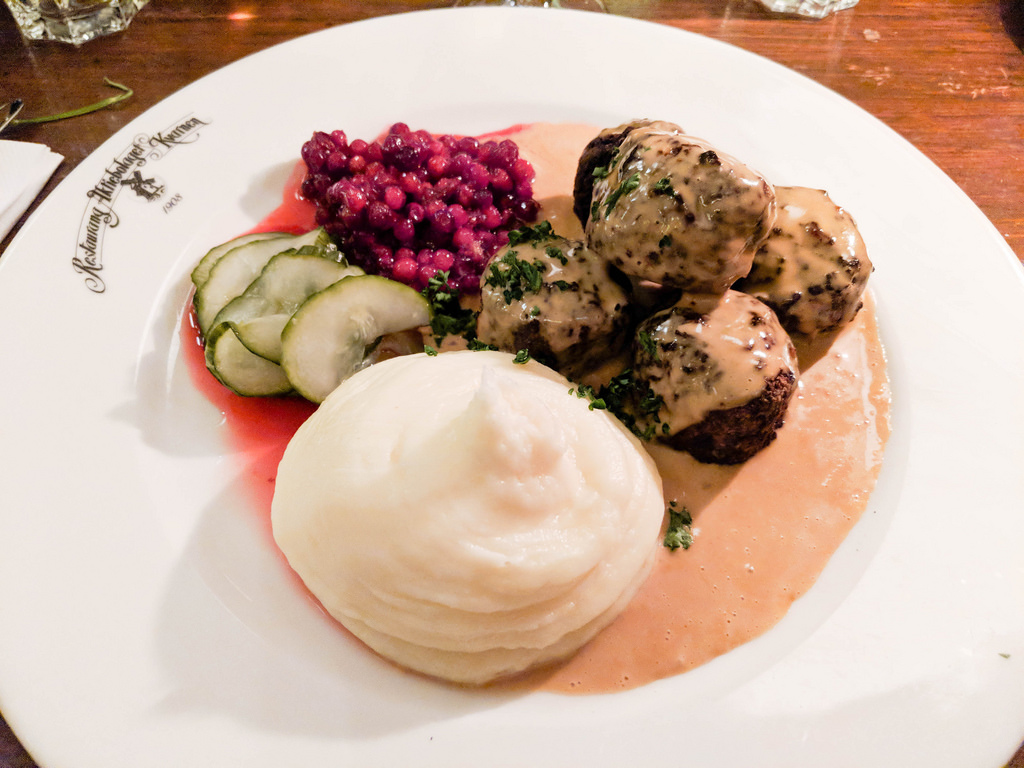meatballs: (583, 140, 755, 304), (624, 299, 801, 438)
